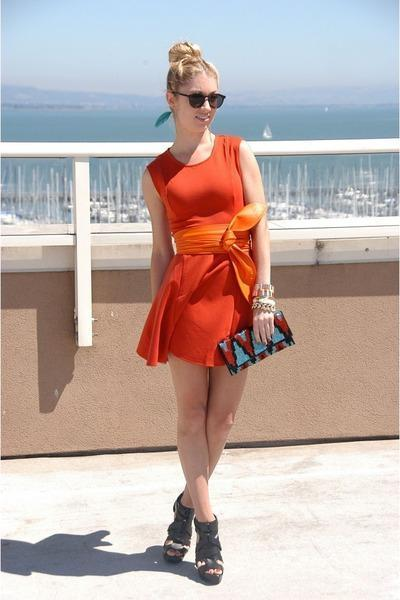bag: (215, 306, 294, 371)
dress: (136, 136, 264, 366)
shoe: (168, 492, 194, 534)
sunglass: (184, 91, 225, 108)
